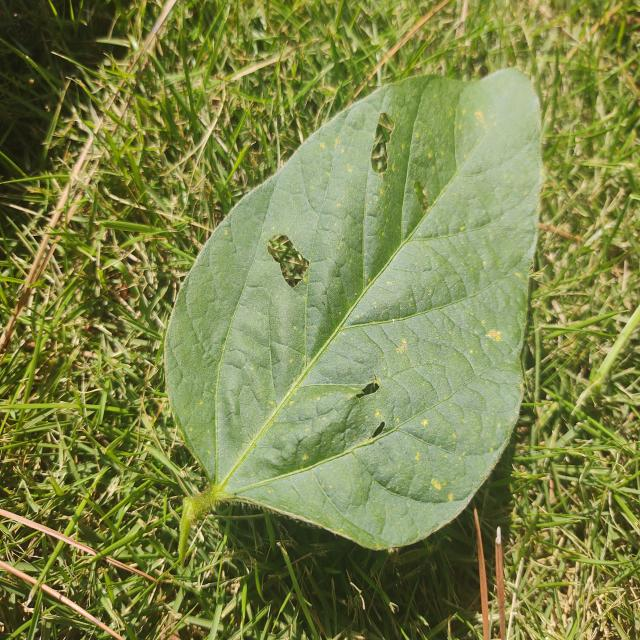Soybean: (164, 68, 545, 555)
downey_mildew: (214, 244, 289, 444), (413, 308, 507, 428), (185, 203, 258, 343), (251, 380, 347, 474), (317, 130, 372, 294), (403, 74, 457, 238), (299, 137, 328, 379), (438, 253, 537, 319), (396, 239, 474, 314), (439, 168, 508, 234), (318, 450, 369, 515), (388, 320, 437, 385), (452, 151, 528, 182), (378, 498, 424, 548)
